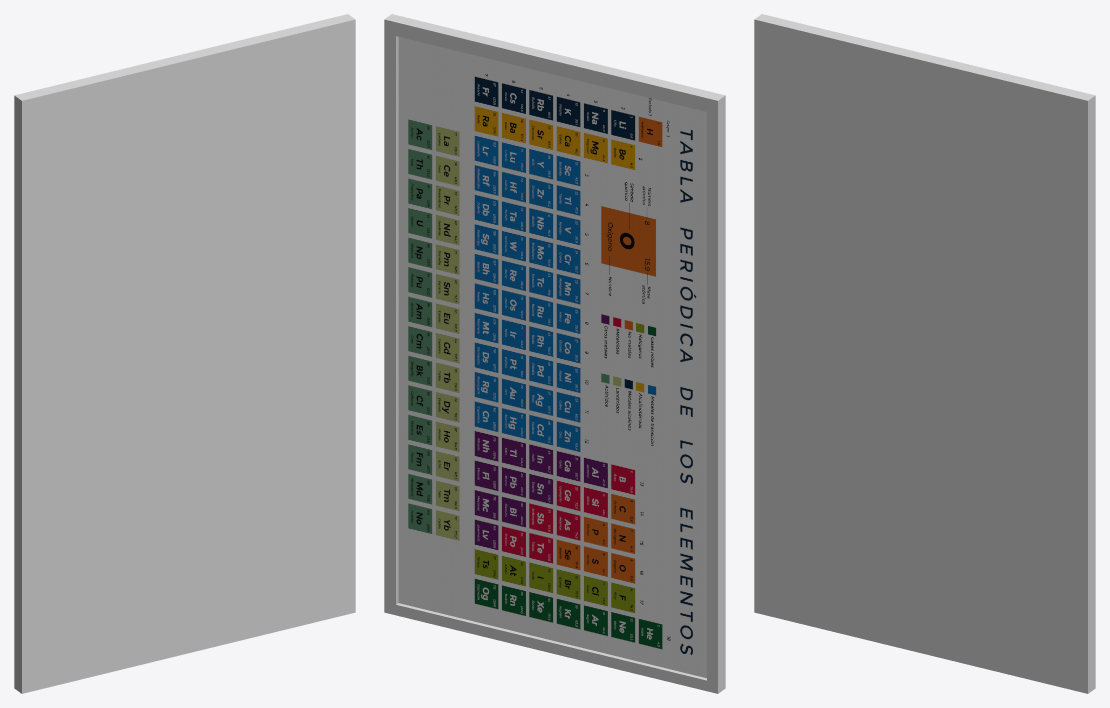
File: Periodic_table.dae
3 renders of one model, left to right at view 1: azimuth 30°, elevation 25°; view 2: azimuth 150°, elevation 25°; view 3: azimuth 330°, elevation 25°, orthographic.
Parts seen in each view (by area): view 1: Periodic Table; view 2: Periodic Table; view 3: Periodic Table.
Part boxes in pixels (left/top/right/bottom): Periodic Table: left=14, top=14, right=355, bottom=693; Periodic Table: left=384, top=14, right=725, bottom=693; Periodic Table: left=754, top=14, right=1095, bottom=693.
Bounding box in the file's own units: 0.1842 × 0.00719 × 0.3129.
2 materials, 1 textured.
